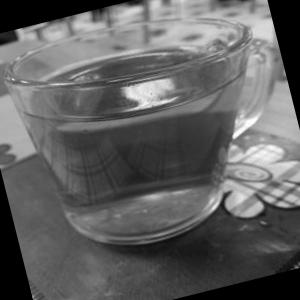tea: (0, 0, 300, 281)
